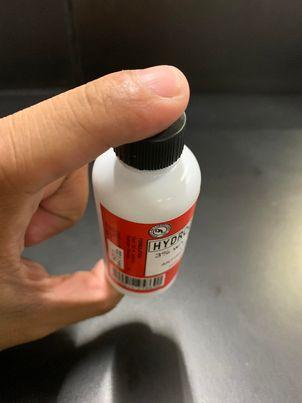-Bottle-: (91, 111, 202, 299)
